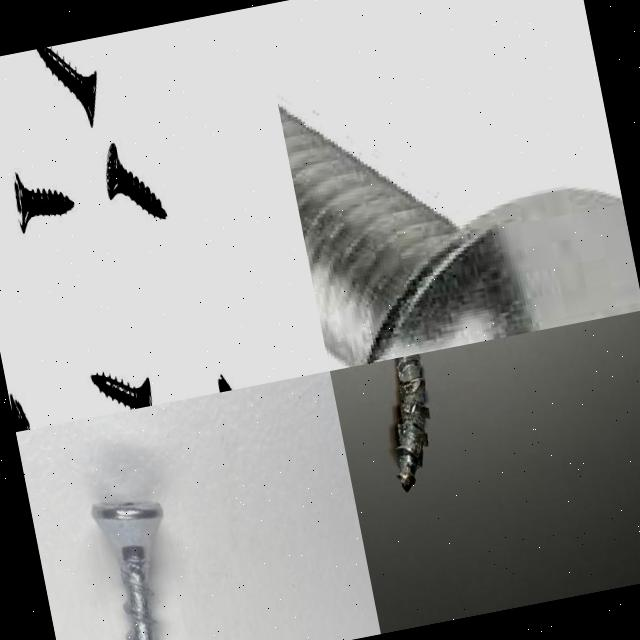Screw: (278, 102, 640, 367), (393, 354, 430, 494), (37, 47, 97, 128), (107, 144, 167, 220), (14, 174, 75, 235), (92, 375, 153, 410), (10, 396, 30, 432)
